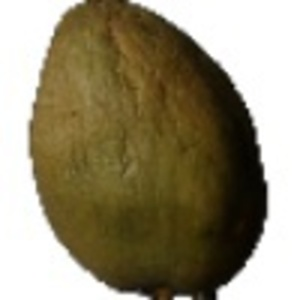mamão: (22, 2, 274, 291)
